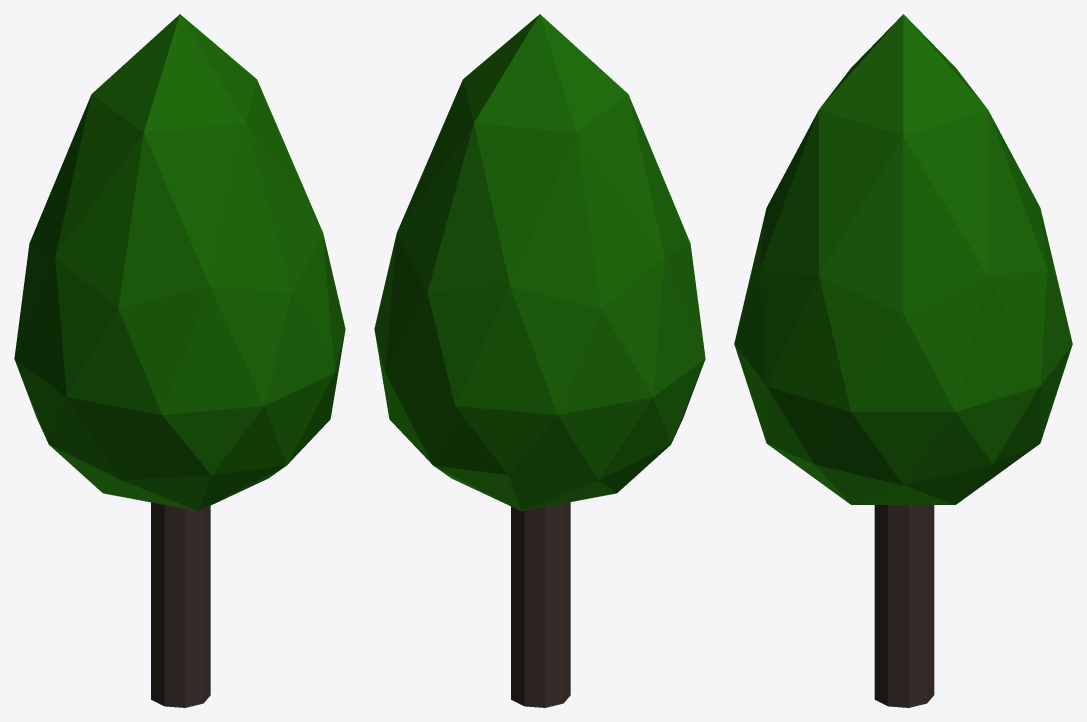
Rendered from simple_tree_5.002_lev1_lev3.glb.
3 views of the same model, side by side, from view 1: azimuth 30°, elevation 25°; view 2: azimuth 150°, elevation 25°; view 3: azimuth 270°, elevation 25° (orthographic).
Parts seen in each view (by area): view 1: simple_tree_5.002_lev1_lev3; view 2: simple_tree_5.002_lev1_lev3; view 3: simple_tree_5.002_lev1_lev3.
Boxes of the visible parts, x1=… form: simple_tree_5.002_lev1_lev3: x1=14, y1=14, x2=345, y2=707; simple_tree_5.002_lev1_lev3: x1=374, y1=14, x2=705, y2=707; simple_tree_5.002_lev1_lev3: x1=734, y1=14, x2=1072, y2=707.
Size of the model in its own units: 3.07 by 7.16 by 3.23.
